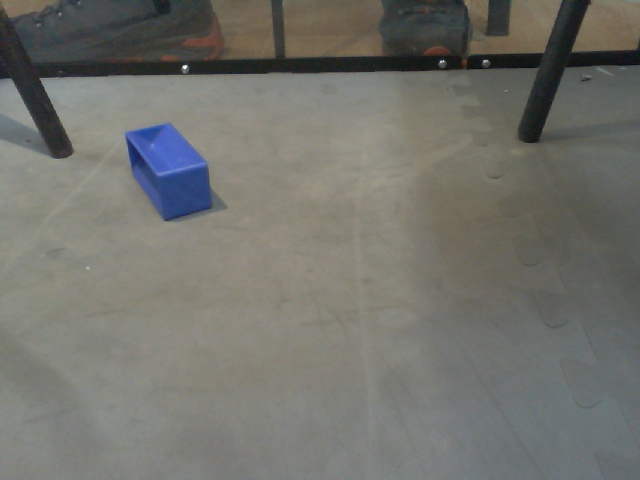BlueSample: (121, 120, 218, 223)
